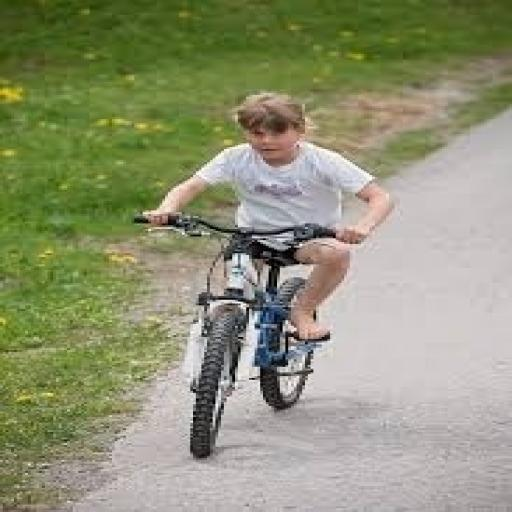cycling: (137, 90, 400, 344)
